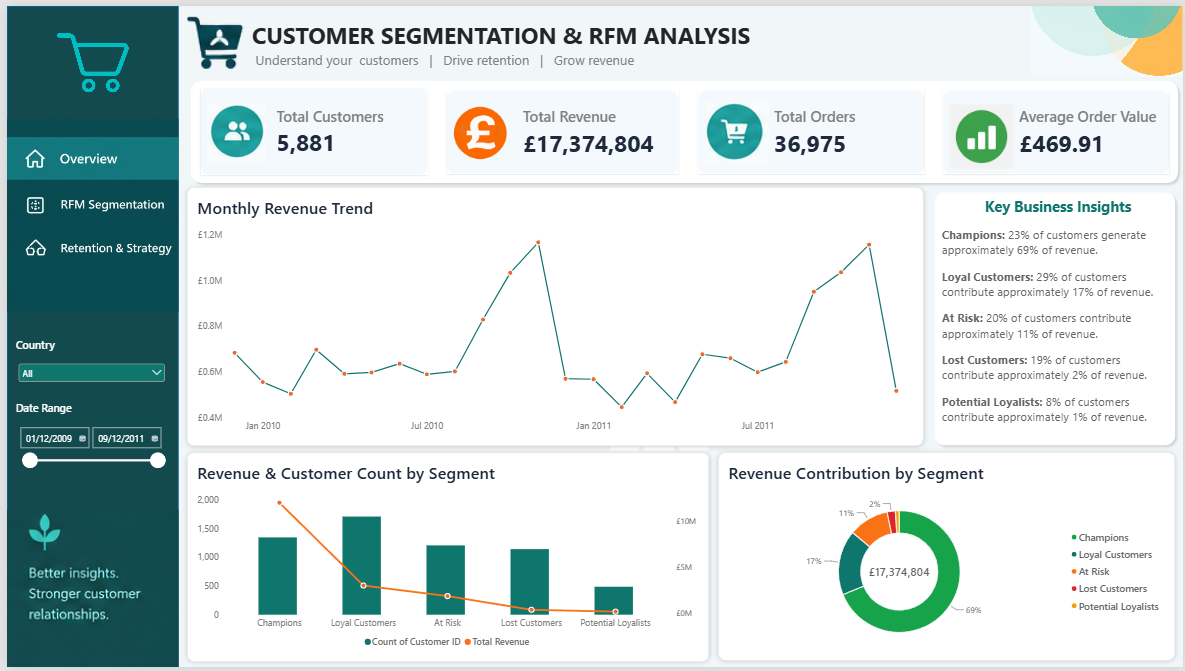

This screenshot's page, from the dashboard's own definition file:
{"tool":"powerbi","page":{"name":"Executive Overview","canvas":[1920,1080],"ordinal":0},"visuals":[{"type":"shape","box":[0,0,280,1080],"z":0},{"type":"image","box":[0,0,280,172],"z":1000},{"type":"image","box":[0,172,280,340],"z":2000},{"type":"image","box":[0,822,280,258],"z":3000},{"type":"textbox","box":[400,22,1520,112],"z":4000},{"type":"image","box":[294,4,92,112],"z":5000},{"type":"image","box":[1672,0,248,116],"z":6000},{"type":"textbox","box":[400,74,924,42],"z":7000},{"type":"shape","box":[292.3,113.3,1628,182.7],"z":8000},{"type":"cardVisual","fields":{"Data":["online_retail_clean.Total Customers"]},"box":[315.8,133.8,370,141],"z":9000},{"type":"cardVisual","fields":{"Data":["online_retail_clean.Total Revenue"]},"box":[717.9,138.9,378.2,135.2],"z":10000},{"type":"image","box":[327.1,138.9,96.8,135.2],"z":11000},{"type":"image","box":[717.3,159.6,113,95],"z":12000},{"type":"cardVisual","fields":{"Data":["online_retail_clean.Total Orders"]},"box":[1128.2,138.9,369.1,135.2],"z":13000},{"type":"image","box":[1140.2,142.5,104.1,127.9],"z":14000},{"type":"donutChart","title":"Revenue Contribution by Segment","fields":{"Category":["Customers.Customer Segment"],"Y":["online_retail_clean.Total Revenue"]},"box":[1160.3,729,745.5,339.9],"z":15000},{"type":"lineClusteredColumnComboChart","title":"Revenue & Customer Count by Segment","fields":{"Category":["Customers.Customer Segment"],"Y":["Count(Customers.Customer ID)"],"Y2":["online_retail_clean.Total Revenue"]},"box":[294.2,729,853,341.7],"z":16000},{"type":"cardVisual","fields":{"Data":["online_retail_clean.Average Order Value"]},"box":[1529.4,138.9,369.1,135.2],"z":17000},{"type":"image","box":[1538.5,148,105,128.5],"z":18000},{"type":"lineChart","title":"Monthly Revenue Trend","fields":{"Category":["online_retail_clean.InvoiceDate.Variation.Date Hierarchy.Year","online_retail_clean.InvoiceDate.Variation.Date Hierarchy.Month"],"Y":["online_retail_clean.Total Revenue"]},"box":[294.2,296,1202.3,422.1],"z":19000},{"type":"slicer","title":"Country","fields":{"Values":["online_retail_clean.Country"]},"box":[15,540,248.3,81.7],"z":20000},{"type":"slicer","title":"Date Range","fields":{"Values":["online_retail_clean.InvoiceDate"]},"box":[15,645,248.3,115],"z":21000},{"type":"shape","box":[1505.6,296,409.3,429.4],"z":22000},{"type":"textbox","box":[1526.9,309.6,378.8,407.7],"z":23000}]}

Visuals, with their boxes on the page's 1920x1080 design canvas (x1, y1, x2, y2). These are canvas units, not pixel positions in the 1185x671 screenshot, which may show the page scaled, cropped or inside an application window:
shape: detection(0, 0, 280, 1080)
image: detection(0, 0, 280, 172)
image: detection(0, 172, 280, 512)
image: detection(0, 822, 280, 1080)
textbox: detection(400, 22, 1920, 134)
image: detection(294, 4, 386, 116)
image: detection(1672, 0, 1920, 116)
textbox: detection(400, 74, 1324, 116)
shape: detection(292, 113, 1920, 296)
cardVisual - online_retail_clean.Total Customers: detection(316, 134, 686, 275)
cardVisual - online_retail_clean.Total Revenue: detection(718, 139, 1096, 274)
image: detection(327, 139, 424, 274)
image: detection(717, 160, 830, 255)
cardVisual - online_retail_clean.Total Orders: detection(1128, 139, 1497, 274)
image: detection(1140, 142, 1244, 270)
"Revenue Contribution by Segment" donutChart: detection(1160, 729, 1906, 1069)
"Revenue & Customer Count by Segment" lineClusteredColumnComboChart: detection(294, 729, 1147, 1071)
cardVisual - online_retail_clean.Average Order Value: detection(1529, 139, 1898, 274)
image: detection(1538, 148, 1644, 276)
"Monthly Revenue Trend" lineChart: detection(294, 296, 1496, 718)
"Country" slicer: detection(15, 540, 263, 622)
"Date Range" slicer: detection(15, 645, 263, 760)
shape: detection(1506, 296, 1915, 725)
textbox: detection(1527, 310, 1906, 717)
